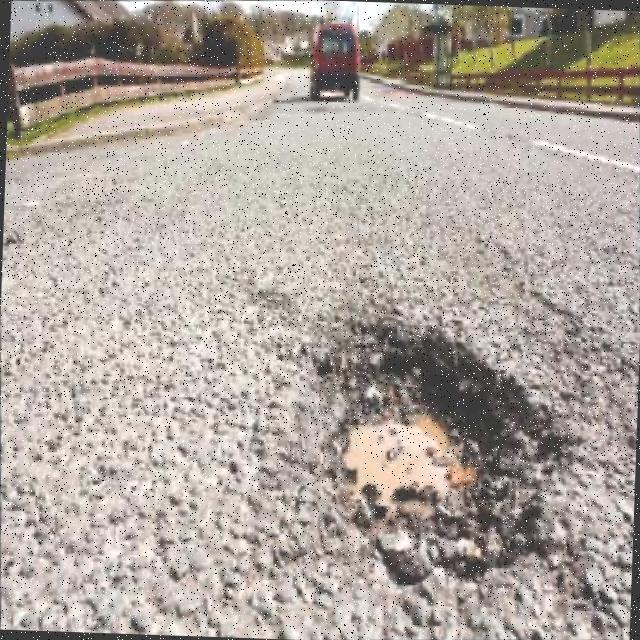Pothole: (311, 321, 568, 586)
